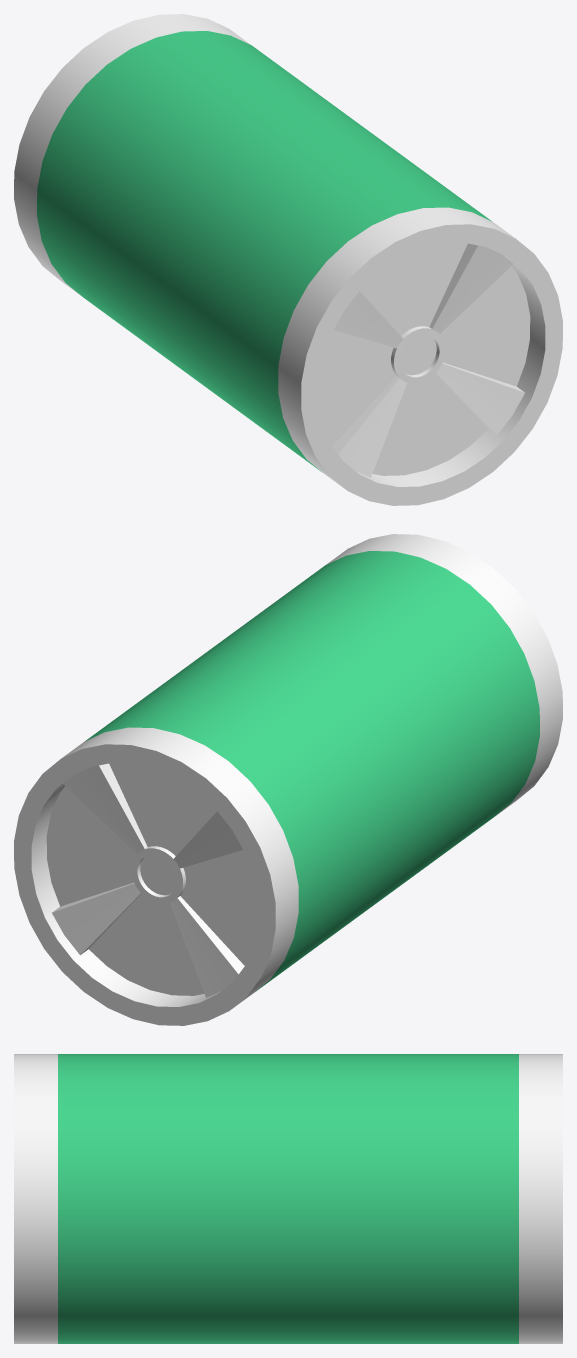
Rendered from formingCylinder.fbx.
The picture shows the model from 3 angles, top to bottom: view 1: azimuth 30°, elevation 25°; view 2: azimuth 150°, elevation 25°; view 3: azimuth 270°, elevation 25°; orthographic projection. The views are drawn at different scales.
Parts seen in each view (by area): view 1: FortifyingCylinder; view 2: FortifyingCylinder; view 3: FortifyingCylinder.
Boxes of the visible parts, box(x1,y1,x2,y2) form: FortifyingCylinder: box(14, 14, 562, 505); FortifyingCylinder: box(14, 534, 562, 1025); FortifyingCylinder: box(14, 1054, 562, 1343).
Size of the model in its own units: 53 by 53 by 101.
